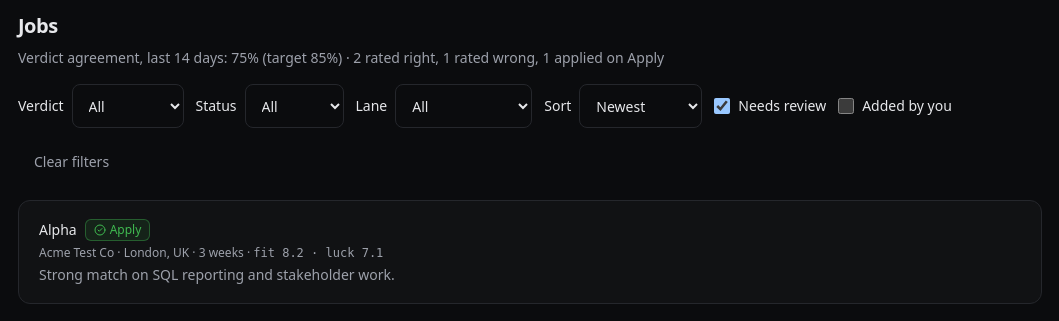
Test: JobsPage › turns Needs review off when Added by you is turned on, and the other way round
Expected: the text "Alpha" is shown, 39,220 -> 77,240
Step 1. Click the checkbox labelled "Added by you" → point(846, 106), box 838,98 -> 854,114
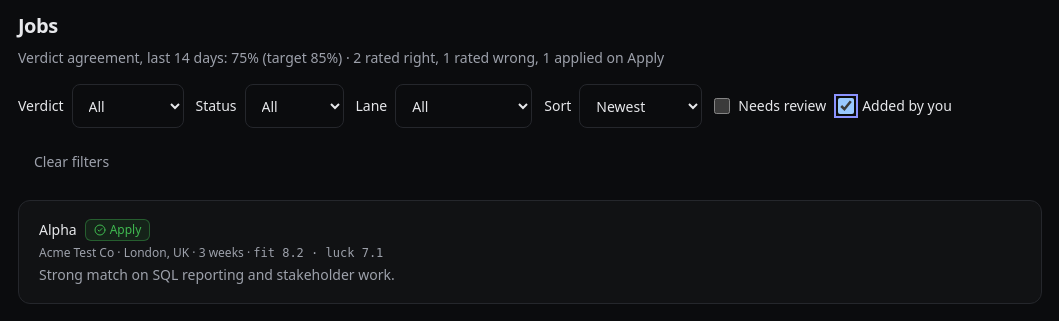
Result: the checkbox labelled "Needs review" is not checked at 714,98 -> 730,114
